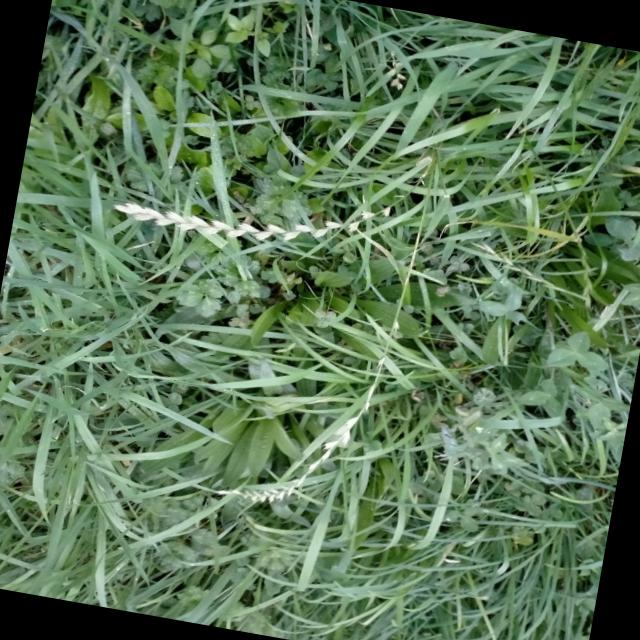Lolium: (204, 290, 400, 520), (102, 134, 412, 268)
